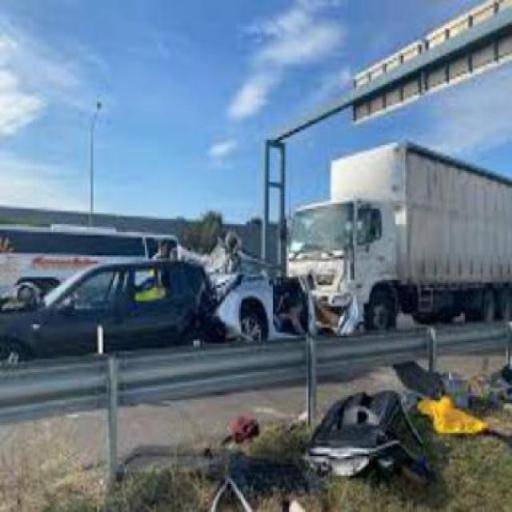小汽车撞小汽车: (5, 145, 472, 346)
